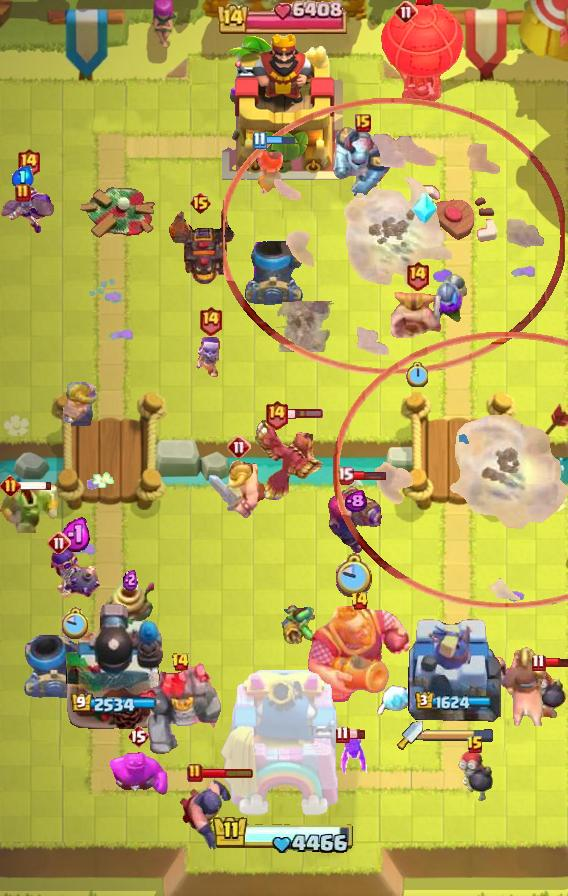bar: (201, 767, 254, 779), (287, 408, 324, 420), (16, 480, 53, 491), (352, 470, 387, 481), (264, 135, 296, 146), (543, 657, 568, 668), (347, 729, 366, 740), (416, 0, 435, 7)
bar-level: (264, 399, 289, 430), (198, 305, 223, 336), (405, 260, 430, 291), (16, 147, 41, 178), (47, 531, 71, 555), (227, 435, 251, 459), (394, 0, 418, 24), (189, 191, 212, 215), (127, 724, 149, 748), (0, 475, 21, 496), (171, 652, 190, 672), (350, 591, 369, 611), (466, 735, 484, 755), (337, 466, 354, 485), (187, 763, 203, 783), (15, 183, 31, 203), (355, 114, 371, 132), (335, 725, 350, 744), (531, 653, 546, 672), (252, 131, 267, 150)
bat: (0, 198, 54, 220)
bat-evolution: (340, 731, 370, 775)
bomber: (526, 667, 568, 719), (456, 746, 494, 802)
bomber-evolution: (49, 545, 103, 601), (4, 182, 52, 236)
cannoneer-tower: (64, 601, 164, 731)
clock: (336, 553, 374, 597), (62, 607, 90, 639), (406, 362, 428, 387)
dagger-duchess-tower: (405, 611, 501, 731)
dagger-duchess-tower-bar: (423, 728, 495, 742)
dirt: (275, 301, 334, 352)
elite-barbarian: (206, 455, 272, 519), (391, 289, 443, 339), (63, 380, 99, 427)
elixir: (60, 517, 93, 553), (344, 490, 367, 513), (12, 166, 34, 189), (123, 568, 138, 591)
elixir-golem-mid: (107, 751, 169, 797)
executioner: (178, 777, 234, 851)
firecracker-evolution: (326, 478, 384, 556)
goblin-brawler: (0, 483, 60, 533)
ice-spirit: (373, 680, 415, 718)
ice-spirit-evolution-symbol: (411, 193, 437, 225)
king-tower: (219, 670, 349, 826), (222, 31, 346, 181)
king-tower-bar: (212, 814, 356, 856), (217, 0, 351, 34)
mega-minion: (332, 126, 394, 204)
mortar: (24, 634, 84, 698), (243, 241, 303, 305)
musketeer: (431, 274, 467, 326)
skeleton-evolution: (194, 337, 226, 377)
spear-goblin: (280, 603, 328, 645)
tower-bar: (71, 693, 157, 715), (415, 691, 492, 711)
valkyrie: (250, 146, 288, 198)
zappy: (106, 579, 154, 627)
